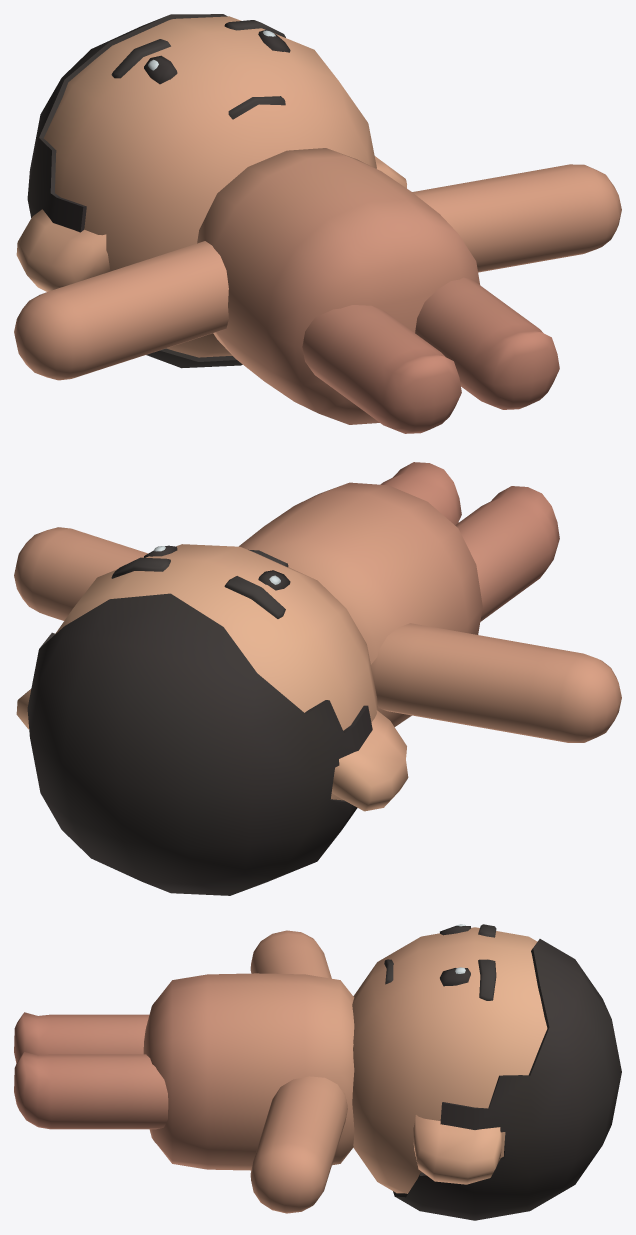
The model's file is person.fbx_Collection.fbx.
3 renders of one model, top to bottom at view 1: azimuth 30°, elevation 25°; view 2: azimuth 150°, elevation 25°; view 3: azimuth 270°, elevation 25°, orthographic. The views are drawn at different scales.
Parts seen in each view (by area): view 1: body_head, body_torso, body_arms, body_legs, hair_01, eyebrows, eyes_01; view 2: hair_01, body_arms, body_head, body_torso, body_legs, eyebrows, eyes_01; view 3: body_head, body_torso, hair_01, body_legs, body_arms, eyebrows, eyes_01.
Boxes of the visible parts, box(x1,y1,x2,y2) form: body_head: box(16, 16, 406, 357); body_torso: box(197, 148, 479, 424); body_arms: box(14, 164, 621, 380); body_legs: box(302, 277, 559, 433); hair_01: box(27, 14, 242, 368); eyebrows: box(111, 20, 285, 78); eyes_01: box(144, 30, 290, 84); hair_01: box(27, 593, 372, 895); body_arms: box(14, 527, 621, 742); body_head: box(16, 544, 408, 811); body_torso: box(239, 482, 482, 726); body_legs: box(380, 462, 559, 621); eyebrows: box(111, 557, 285, 618); eyes_01: box(144, 545, 290, 590); body_head: box(352, 927, 547, 1193); body_torso: box(143, 973, 354, 1170); hair_01: box(393, 939, 621, 1220); body_legs: box(14, 1012, 168, 1129); body_arms: box(250, 930, 347, 1213); eyebrows: box(478, 924, 496, 1000); eyes_01: box(440, 924, 470, 986).
Size of the model in its own units: 137 by 70.13 by 147.
Materials: 2 (2 with a texture image).
